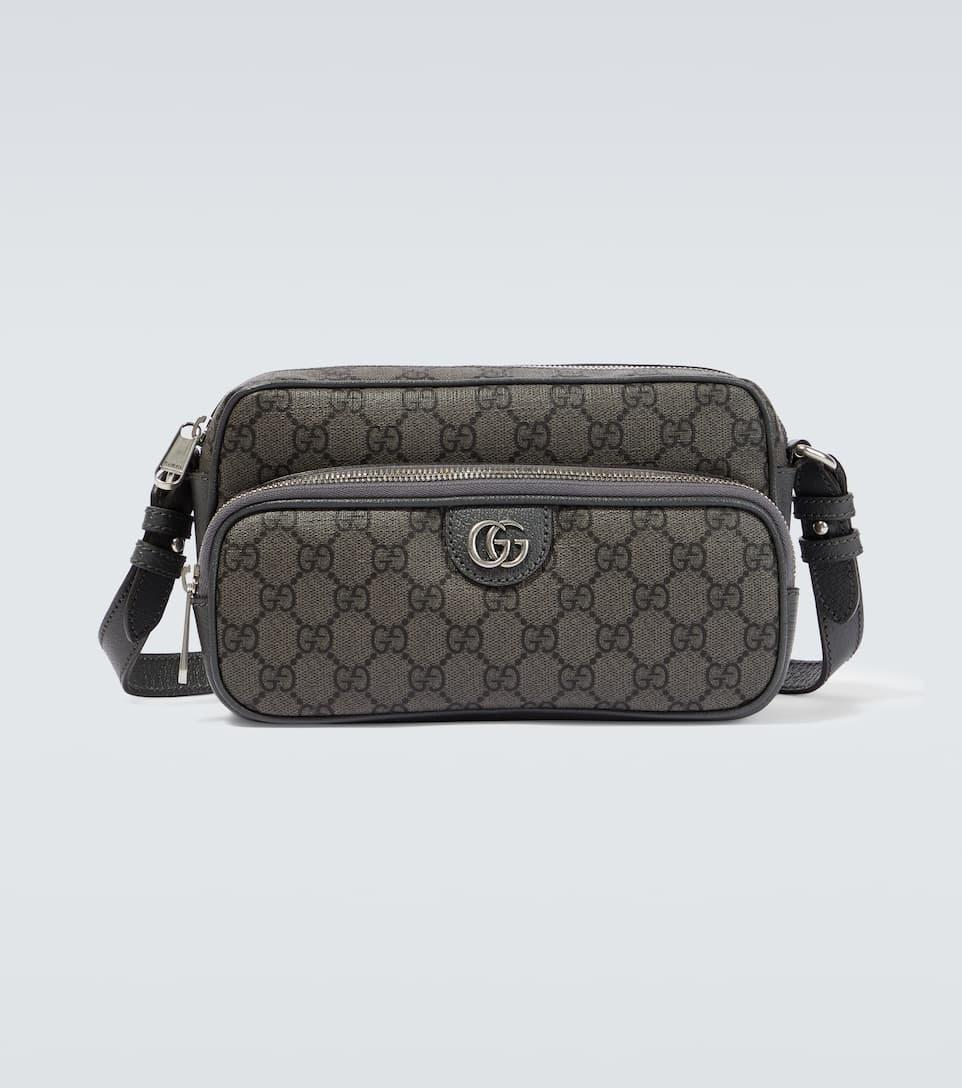GUCCI: (467, 519, 530, 569)
